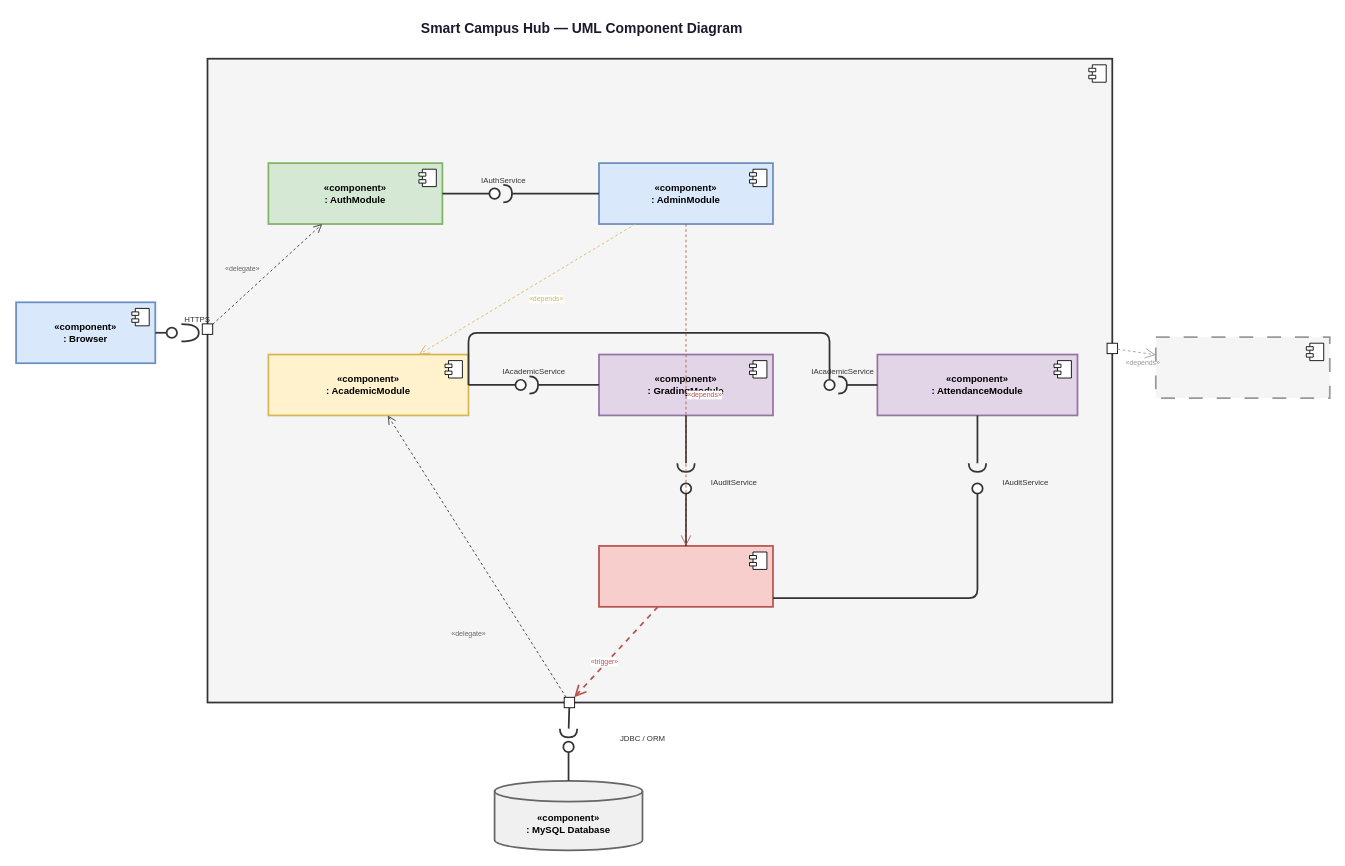
Image size: 1345x866. Some labels were removed from this diagram. The box of each missing label's shape, as (x1, y1, x2, y2) in pixels:
«component» : AuditModule: (598, 545, 773, 607)
«component» : FinanceModule (OUT OF SCOPE): (1154, 336, 1330, 398)
«component» : SmartCampusHub: (206, 57, 1113, 703)
